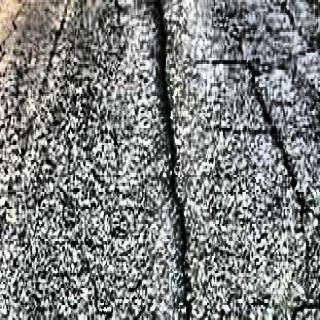crack: (152, 1, 193, 320)
